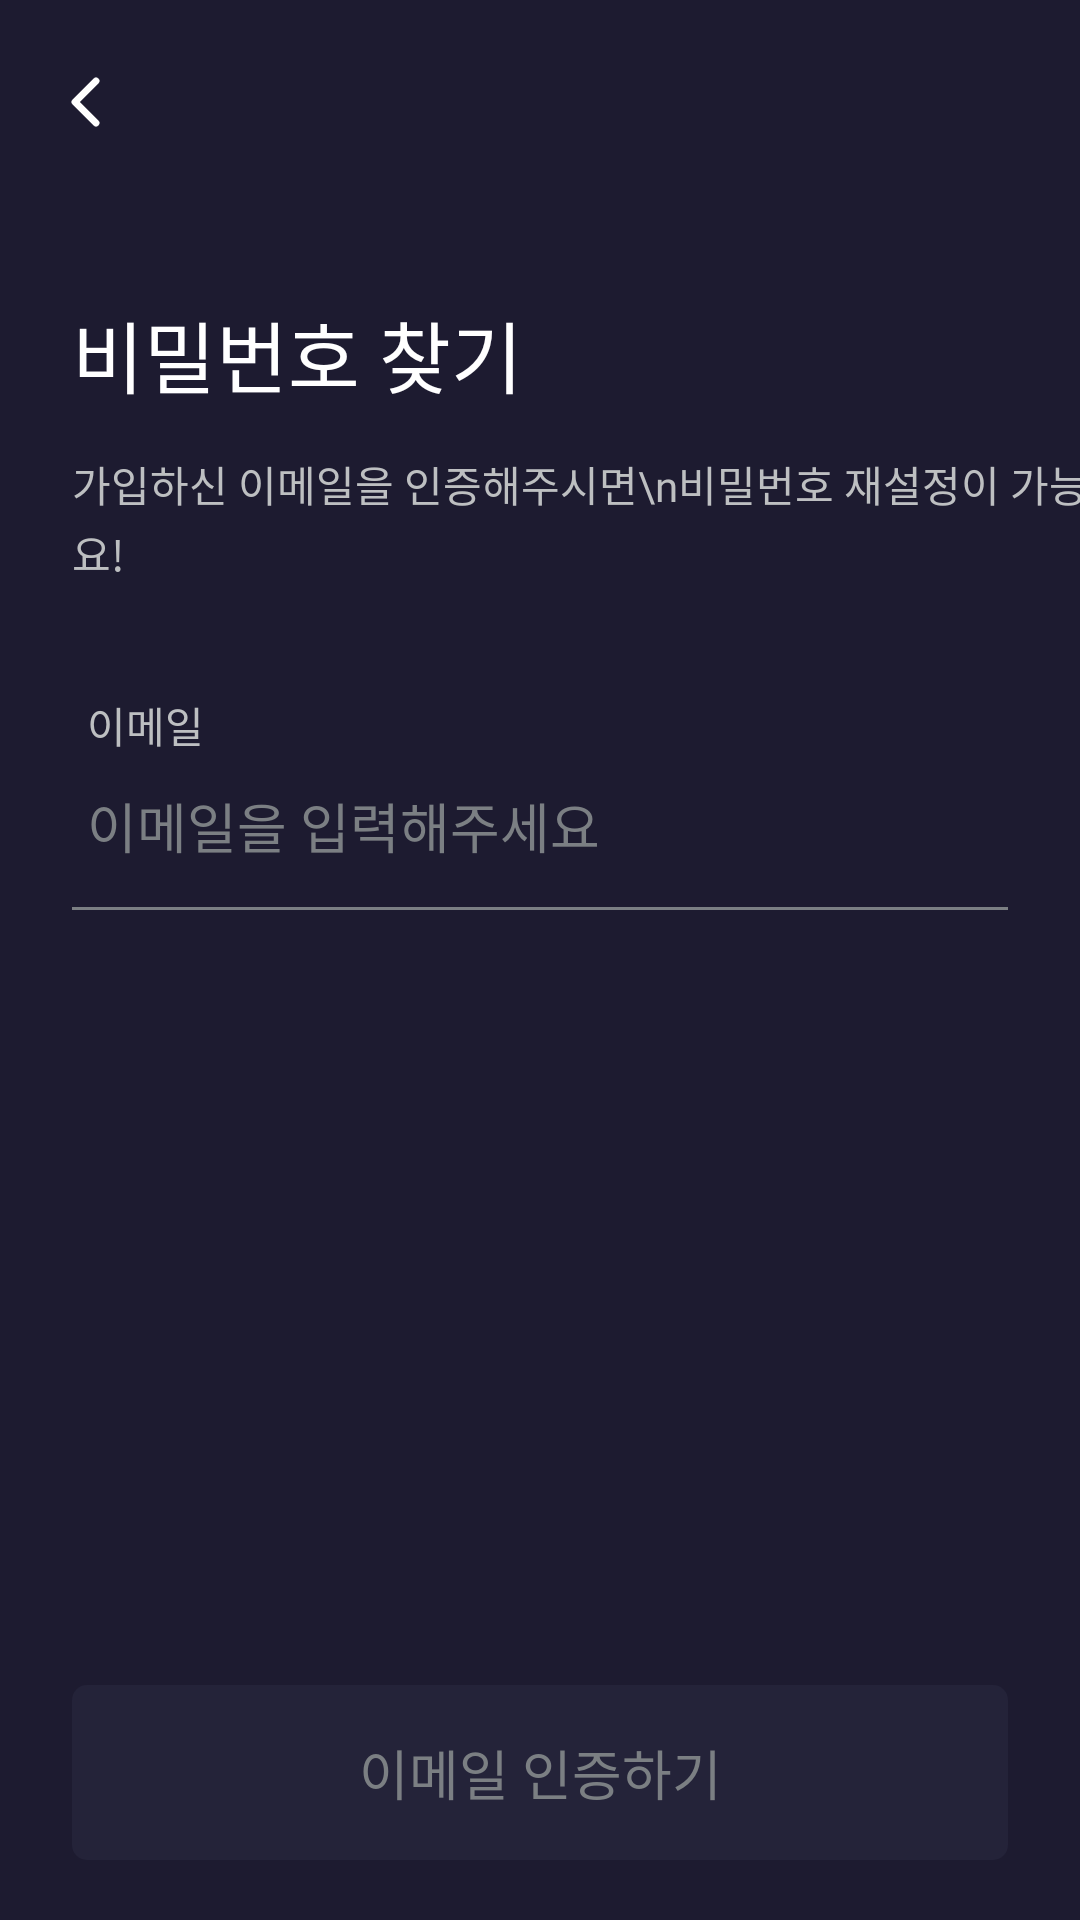

Icons on this 1080px x 1920px Android screen, each with its box as (x1, y1, x2, y2):
arrow left: (71, 77, 100, 127)
